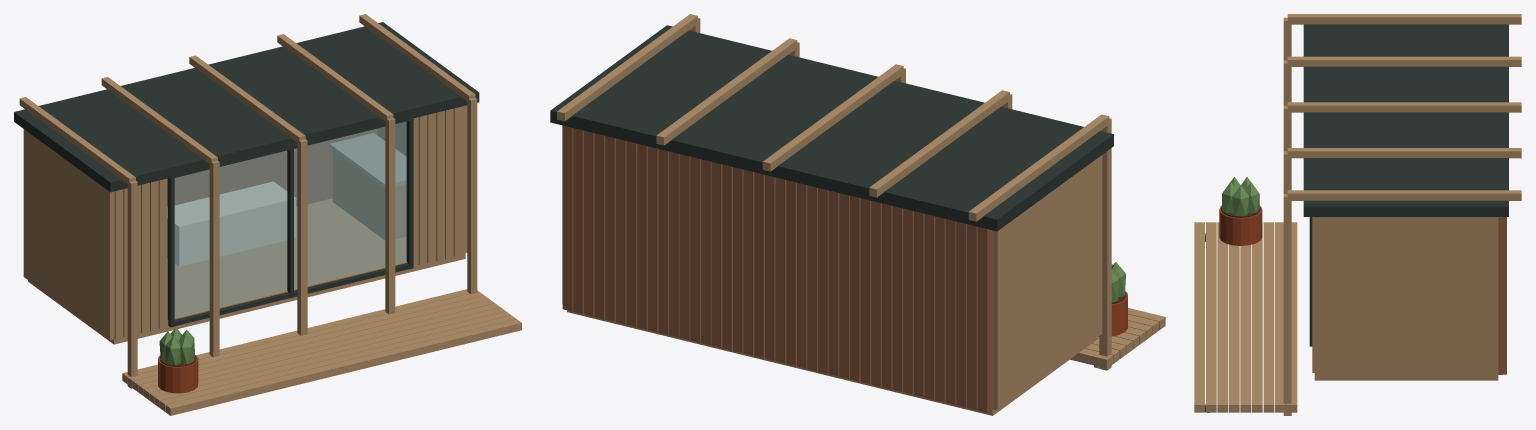
Rendered from pavilion.glb.
3 renders of one model, left to right at view 1: azimuth 30°, elevation 25°; view 2: azimuth 150°, elevation 25°; view 3: azimuth 270°, elevation 25°, orthographic. The views are drawn at different scales.
Parts seen in each view (by area): view 1: pavilion_Modrin, pavilion_Antracit, pavilion_Sklo, pavilion_Len, pavilion_Cedr, pavilion_Kamen, pavilion_Corten, pavilion_Zelen; view 2: pavilion_Cedr, pavilion_Antracit, pavilion_Modrin, pavilion_Corten; view 3: pavilion_Modrin, pavilion_Antracit, pavilion_Cedr, pavilion_Corten, pavilion_Zelen.
Part boxes in pixels (x1,y1,x2,y2): pavilion_Modrin: (19, 14, 521, 415); pavilion_Antracit: (14, 22, 479, 327); pavilion_Sklo: (174, 121, 406, 317); pavilion_Len: (167, 181, 296, 266); pavilion_Cedr: (167, 129, 377, 206); pavilion_Kamen: (329, 133, 406, 187); pavilion_Corten: (158, 355, 198, 393); pavilion_Zelen: (159, 328, 195, 365); pavilion_Cedr: (562, 125, 992, 412); pavilion_Antracit: (550, 25, 1113, 231); pavilion_Modrin: (557, 14, 1165, 415); pavilion_Corten: (1098, 291, 1127, 336); pavilion_Modrin: (1194, 14, 1521, 415); pavilion_Antracit: (1303, 24, 1508, 346); pavilion_Cedr: (1498, 217, 1506, 374); pavilion_Corten: (1219, 205, 1262, 245); pavilion_Zelen: (1222, 177, 1259, 215).
Bounding box in the file's own units: 6.3 × 3.4 × 4.54.
